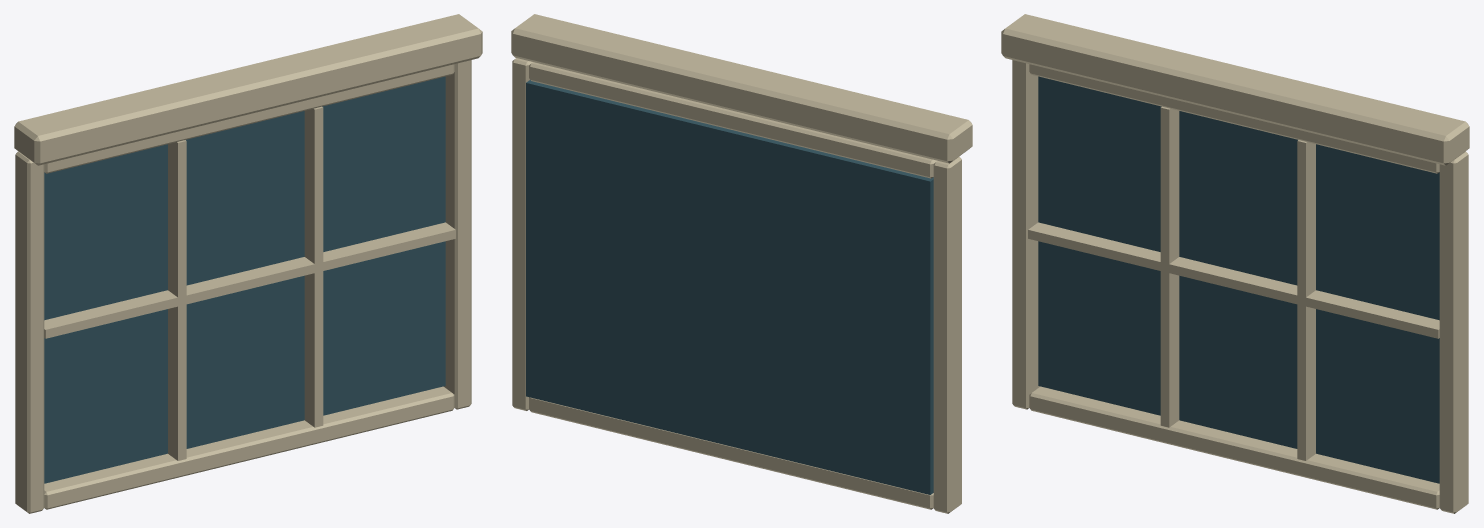
The model's file is window_32.glb.
3 views of the same model, side by side, from view 1: azimuth 30°, elevation 25°; view 2: azimuth 150°, elevation 25°; view 3: azimuth 330°, elevation 25° (orthographic).
Parts seen in each view (by area): view 1: window_32; view 2: window_32; view 3: window_32.
Part boxes in pixels (x1,y1,x2,y2): window_32: [14, 14, 482, 513]; window_32: [511, 14, 972, 513]; window_32: [1001, 14, 1469, 513].
Size of the model in its own units: 2.36 by 1.94 by 0.2375.
